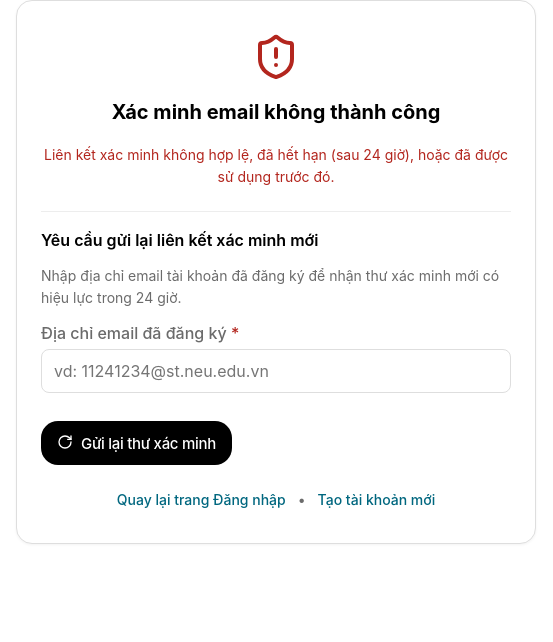
T06 / B04 — Auth UI: Registration, Verification & Role State › VerifyEmailPage Component › handles invalid or expired token and displays inline resend verification form
Expected: the heading "Xác minh email không thành công" is shown, [112, 97, 440, 128]
Expected: the text "Liên kết xác minh không hợp lệ, đã hết hạn" is shown, [44, 146, 508, 185]
# User enters email to get new token
Type "11240001@st.neu.edu.vn" into the field labelled "Địa chỉ email đã đăng ký *" at (276, 371), box [41, 349, 511, 393]
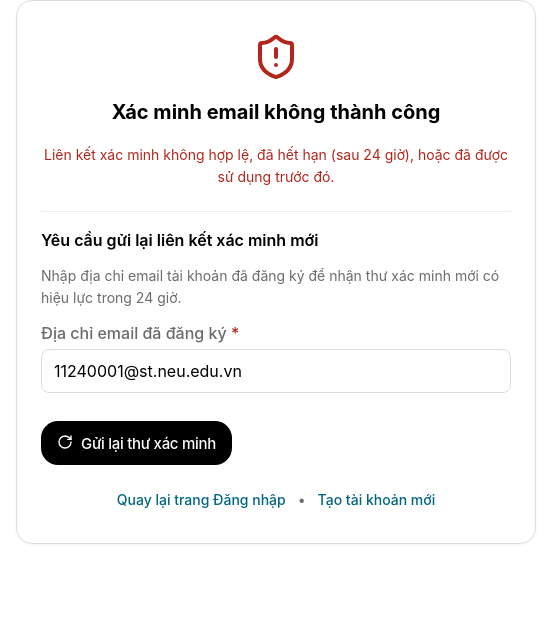
Click the button "Gửi lại thư xác minh" at (136, 443), box [41, 421, 232, 465]
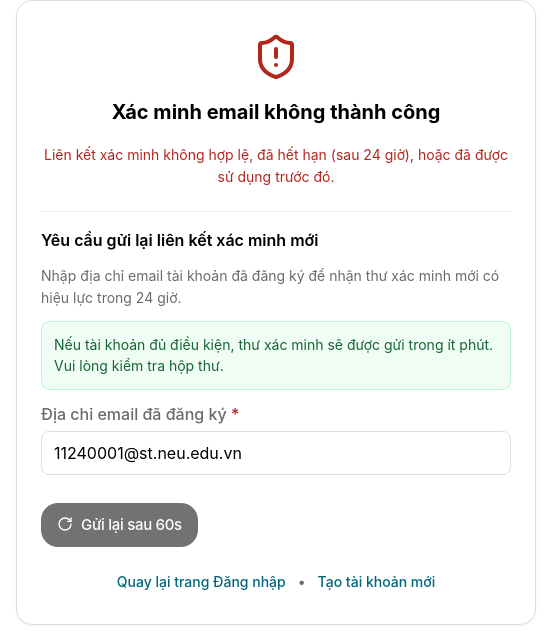
Now the text "Nếu tài khoản đủ điều kiện, thư xác minh sẽ được gửi" is shown, box [54, 336, 493, 374]
